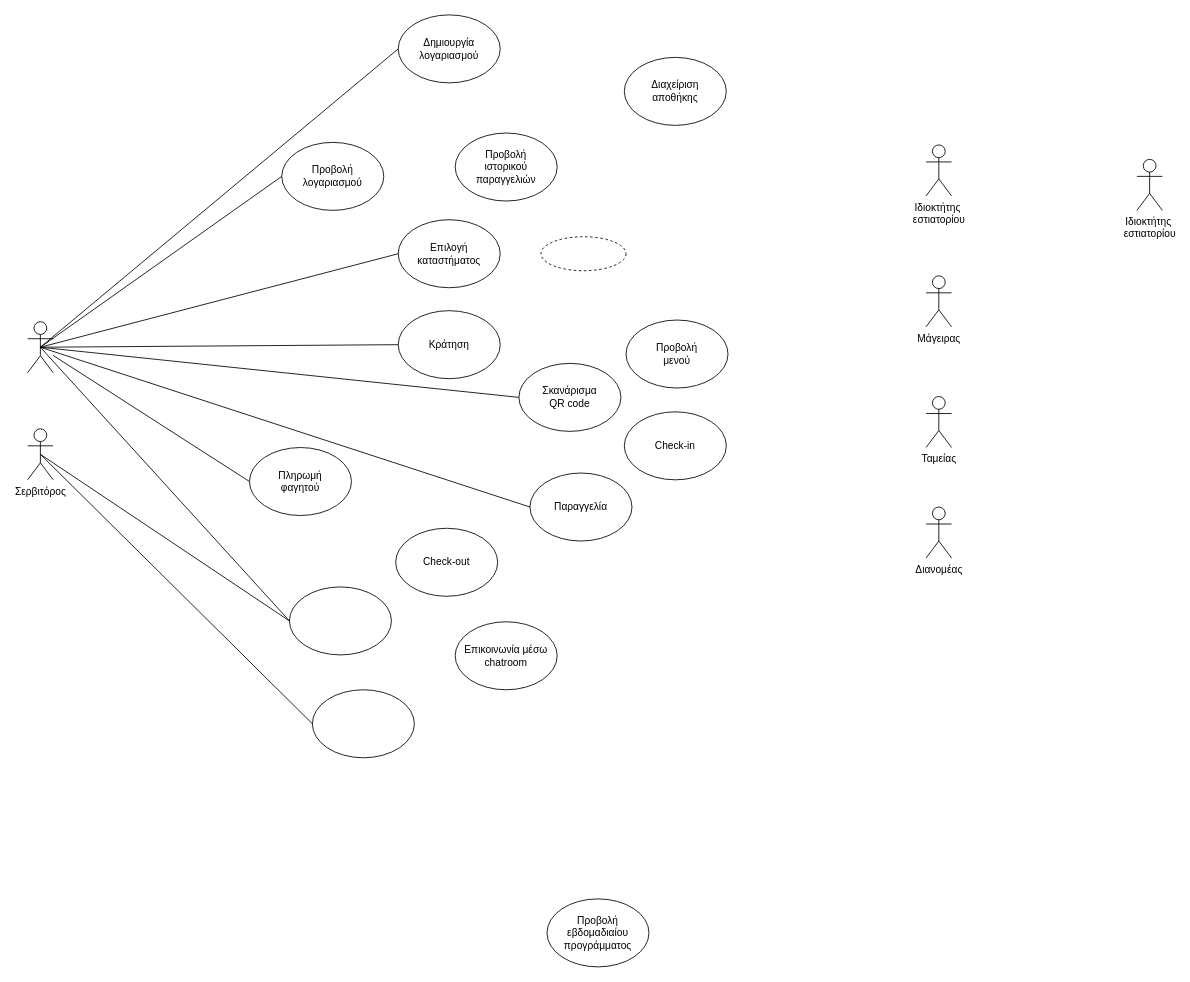
The diagram is 1190 pixels wide and 982 high, and some of its shapes have lost their labels. The shapes that lost their labels are listed below. From the top down, each one's centre as x and y in pixels, then its label:
At [583,253]: "Περιγραφή καταστήματος".
At [40,347]: "Πελάτης εστιατορίου".
At [340,620]: "Κάλεσμα/ενημέρωση σερβιτόρου".
At [363,723]: "Προβολή εκκρεμών παραγγελιών".
